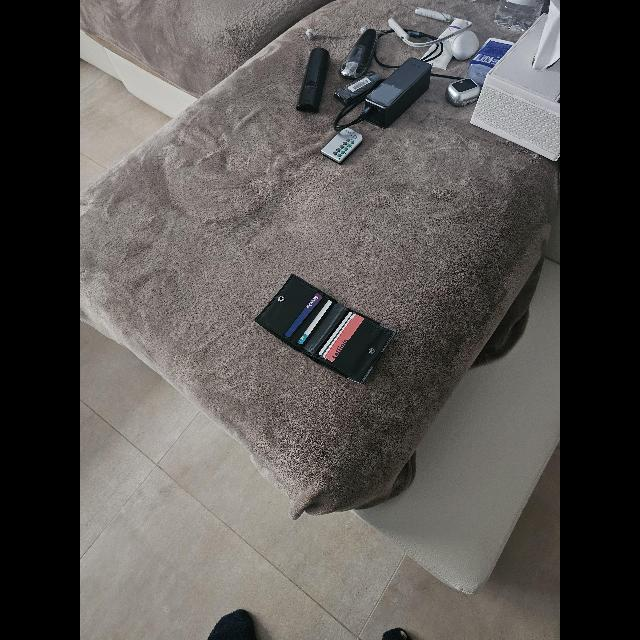Wallet: (256, 274, 396, 384)
